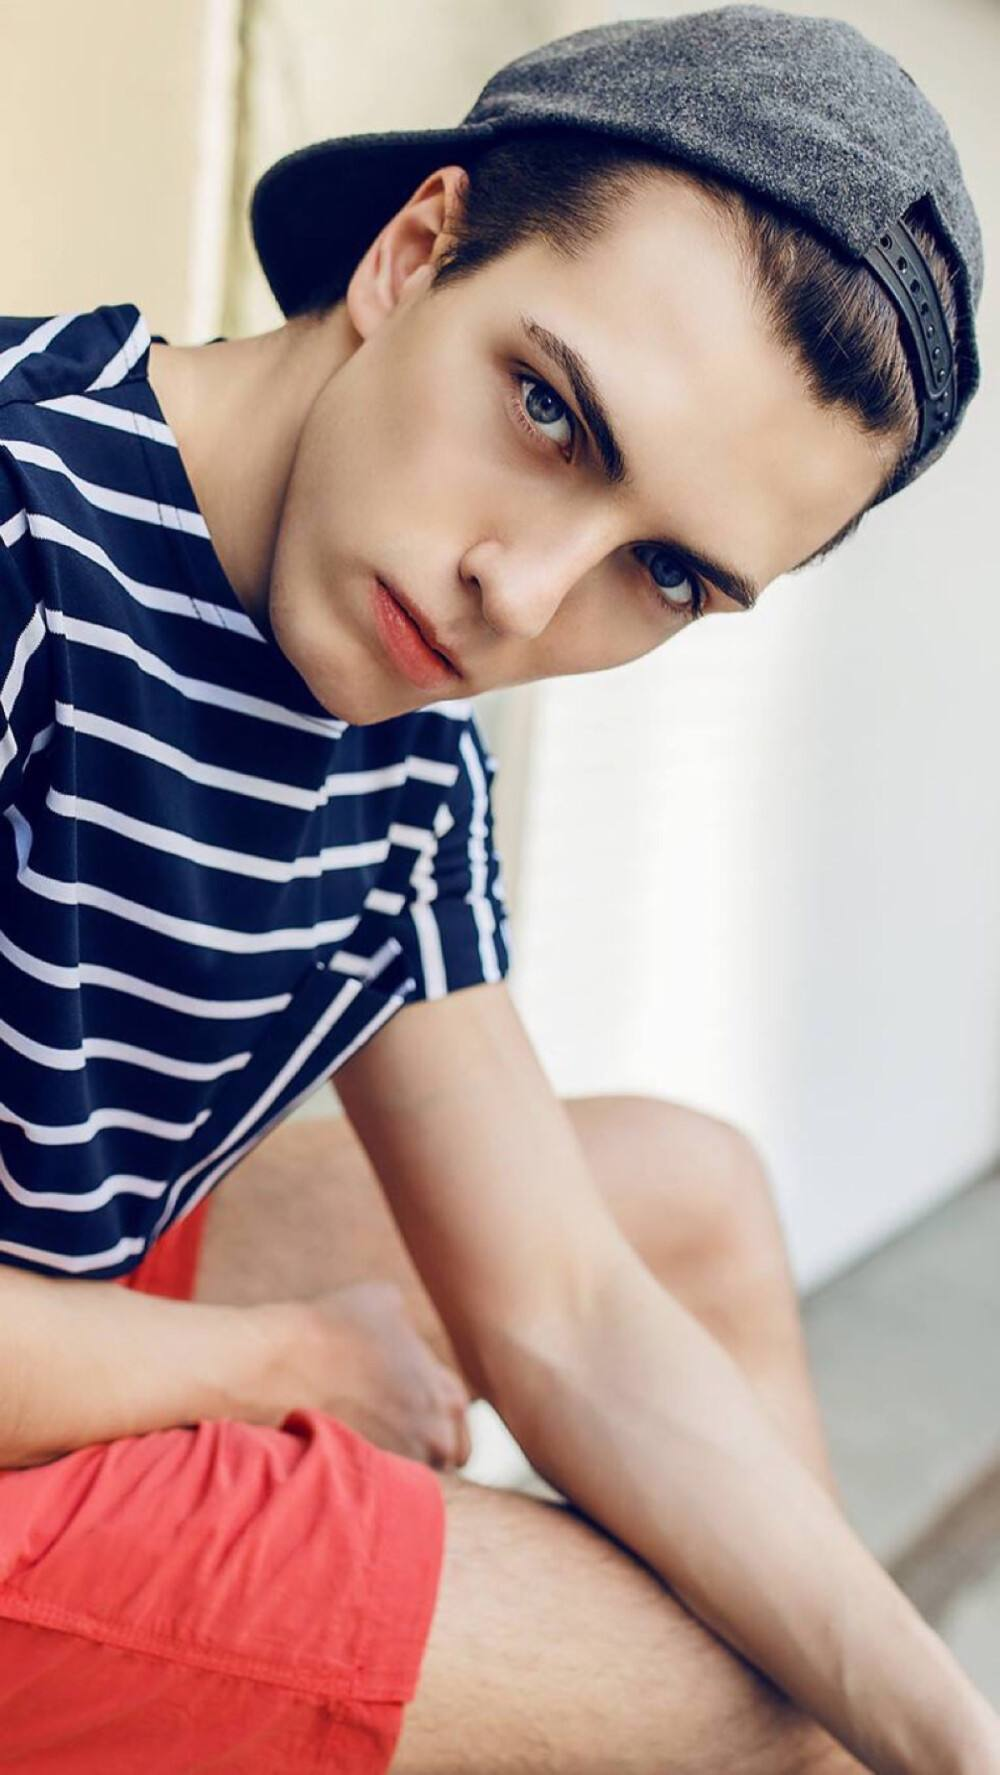person: (36, 78, 983, 1333)
